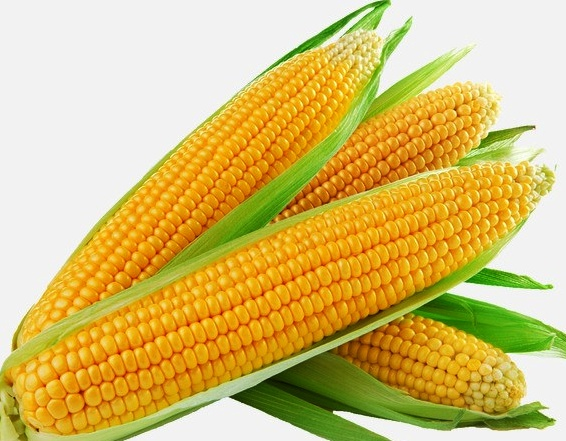corn: (5, 156, 545, 436), (22, 17, 381, 343)
